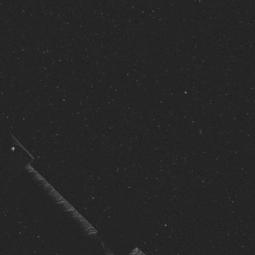xmm_newton: (7, 128, 154, 255)
